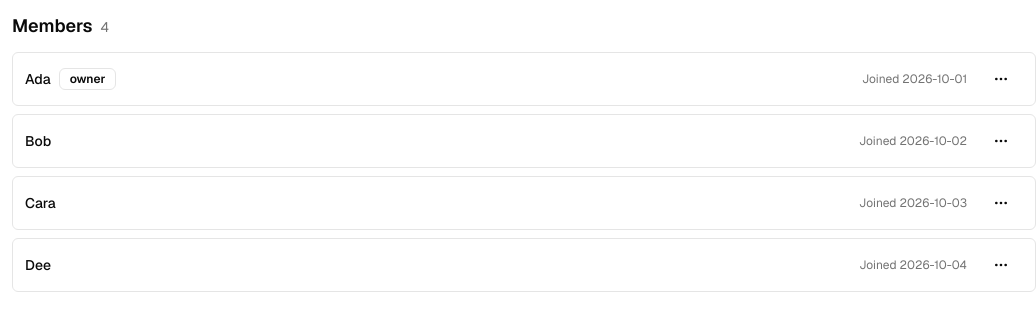
Test case: RoomRoster moderation menu › offers Unblock for an already blocked member
The image size is (1036, 309).
Press the mouse on the button named "Actions for Bob" at (1001, 141), box [979,123,1023,159]
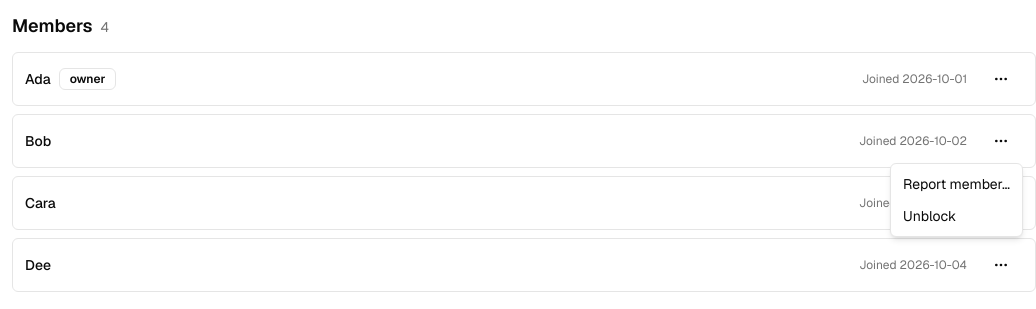
Expected: the text "Block" is not shown
Now the menu item "Unblock" is shown, box [903,207,956,225]
